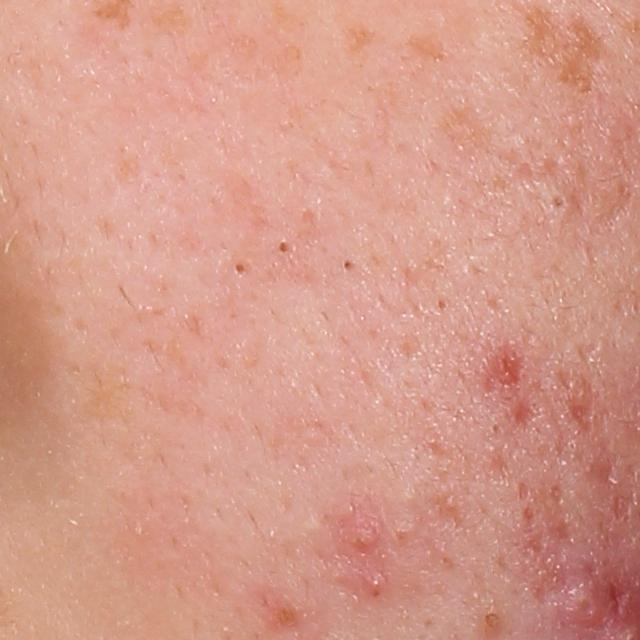atrophic_scar: (547, 363, 597, 437), (536, 483, 576, 546), (586, 439, 617, 499), (510, 384, 542, 431), (602, 570, 632, 614), (521, 505, 539, 532), (516, 479, 528, 502)
comedo: (478, 600, 512, 633), (390, 521, 418, 548), (226, 257, 251, 281), (273, 236, 296, 262), (548, 184, 569, 212), (338, 257, 357, 276), (432, 295, 452, 313), (487, 420, 505, 439)
melasma: (523, 4, 607, 98), (432, 98, 503, 154), (400, 29, 448, 67), (340, 21, 378, 59)
papule: (542, 580, 604, 624), (333, 513, 385, 559), (360, 569, 388, 598)
